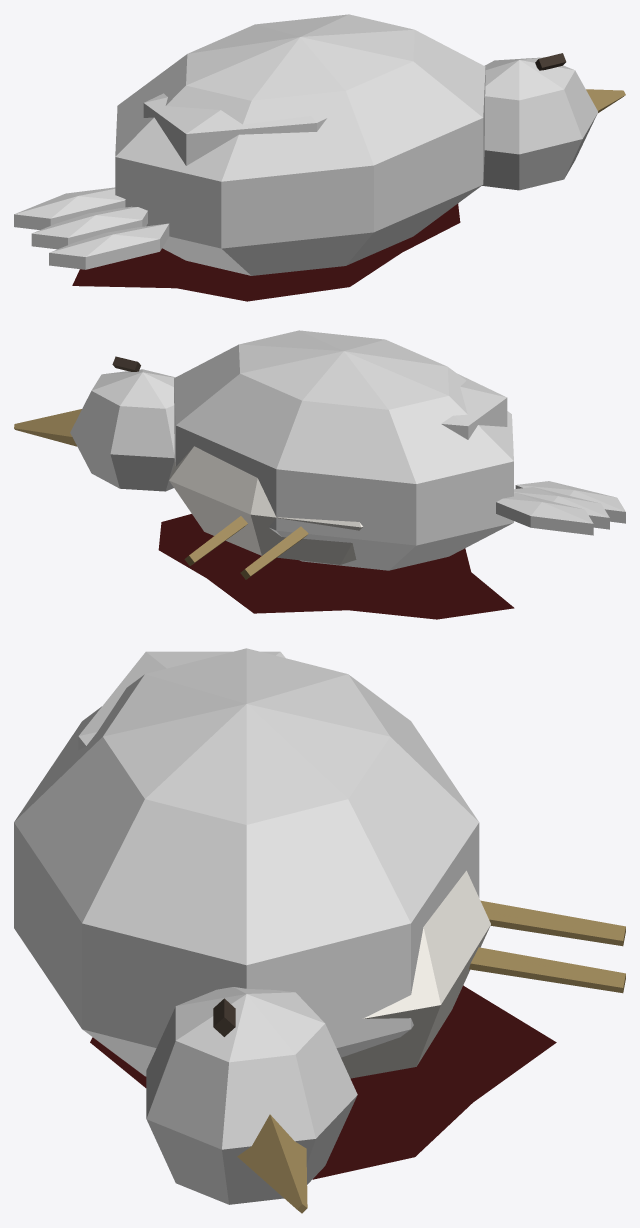
Rendered from carcass_bird.gltf.
The picture shows the model from 3 angles, top to bottom: view 1: azimuth 30°, elevation 25°; view 2: azimuth 150°, elevation 25°; view 3: azimuth 270°, elevation 25°; orthographic projection. The views are drawn at different scales.
Parts seen in each view (by area): view 1: carcass_bird; view 2: carcass_bird; view 3: carcass_bird.
Boxes of the visible parts, x1,y1,x2,y2 form: carcass_bird: (14,14,625,301); carcass_bird: (14,330,625,619); carcass_bird: (14,648,625,1213).
Size of the model in its own units: 1.02 by 0.34 by 0.5505.
